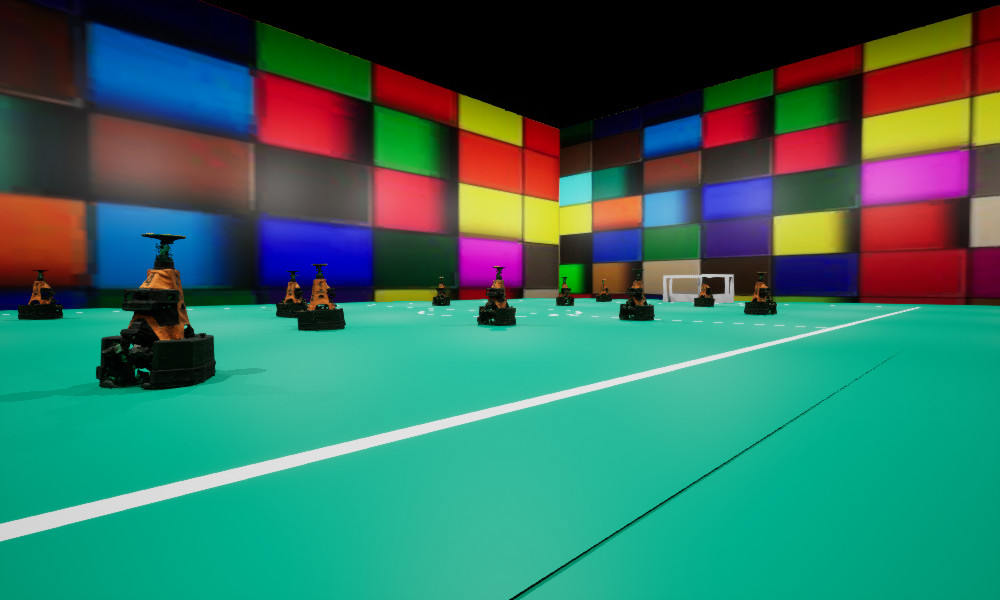o: (96, 233, 215, 387), (298, 264, 345, 330), (477, 266, 515, 325), (18, 270, 63, 319), (619, 269, 654, 320), (276, 271, 308, 317), (744, 272, 776, 314), (281, 275, 304, 302), (694, 277, 715, 306), (432, 277, 449, 305), (556, 277, 573, 305), (596, 279, 611, 301)
